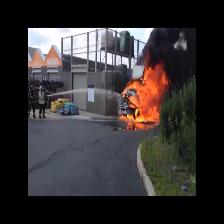fire: (120, 64, 167, 123)
smoke: (135, 28, 196, 89)
